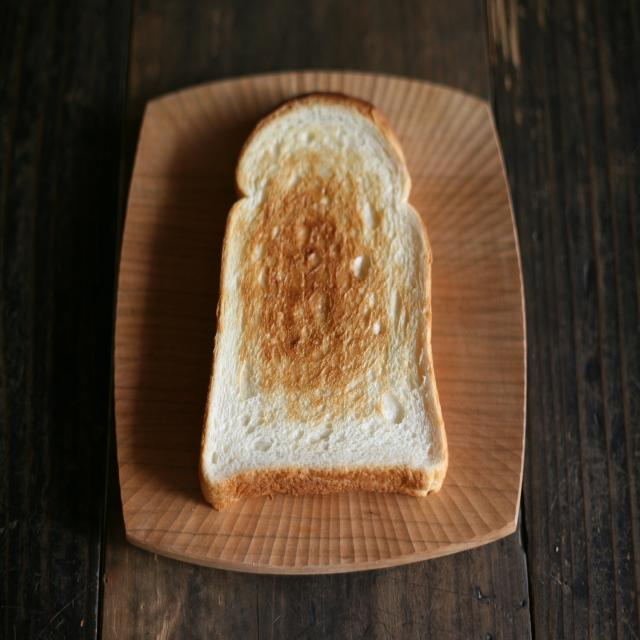Bread: (200, 94, 448, 509)
